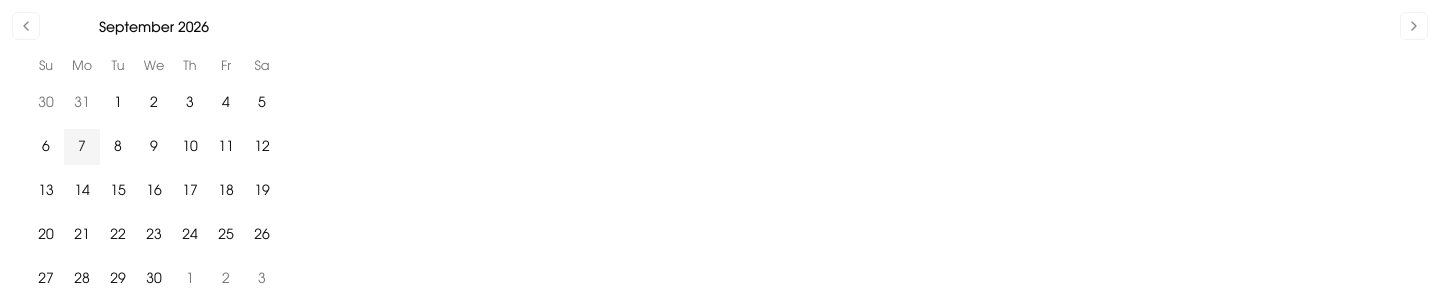
Test case: navigates months and selects a date using the current DayPicker API
Check: the text "September 2026" is shown, box 99,18 -> 209,38
Click the button named "next month" at (1414, 26), box 1400,12 -> 1428,40
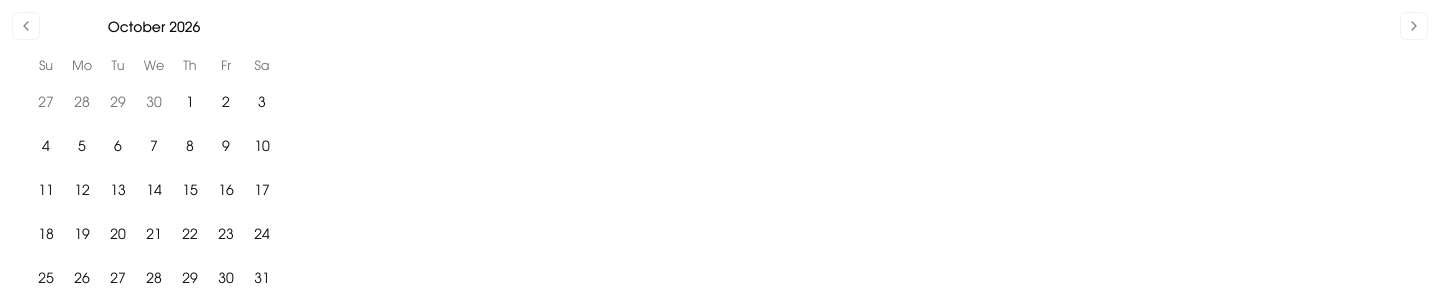
Check: the text "October 2026" is shown, box 108,18 -> 200,38
Click the button named "Thursday, October 15th, 2026" at (190, 191), box 172,173 -> 208,209
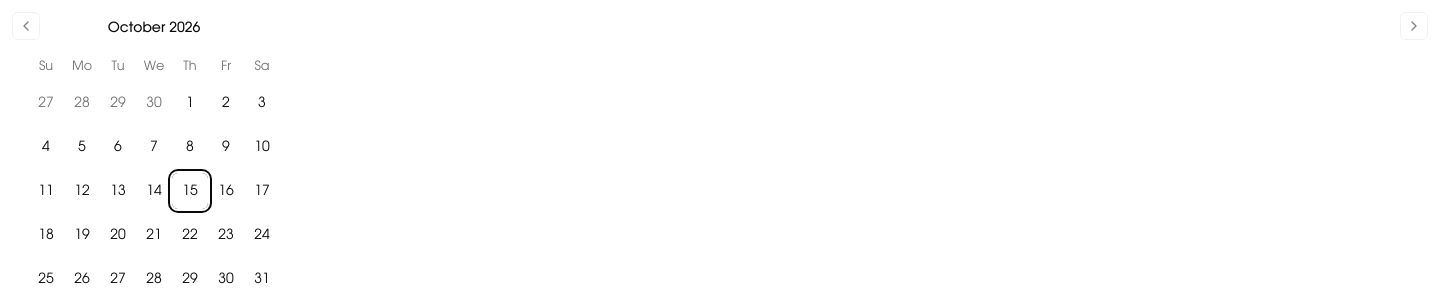
Click the button named "previous month" at (26, 26), box 12,12 -> 40,40
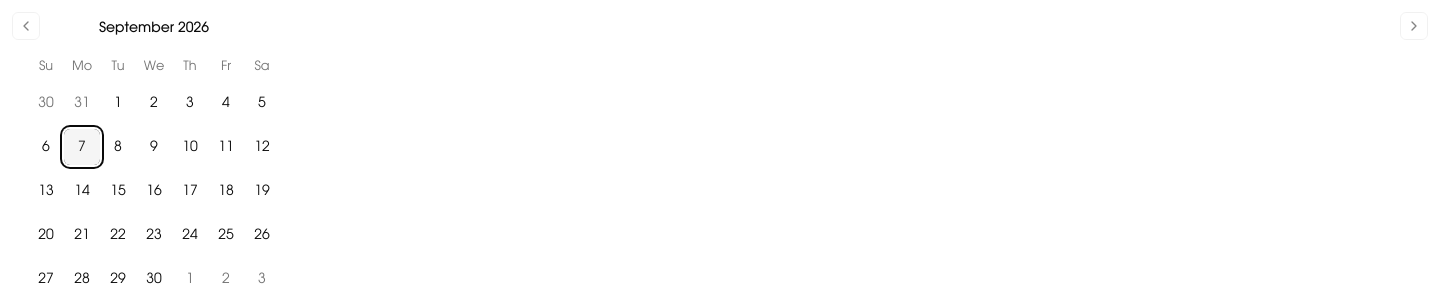
Check: the text "September 2026" is shown, box 99,18 -> 209,38
